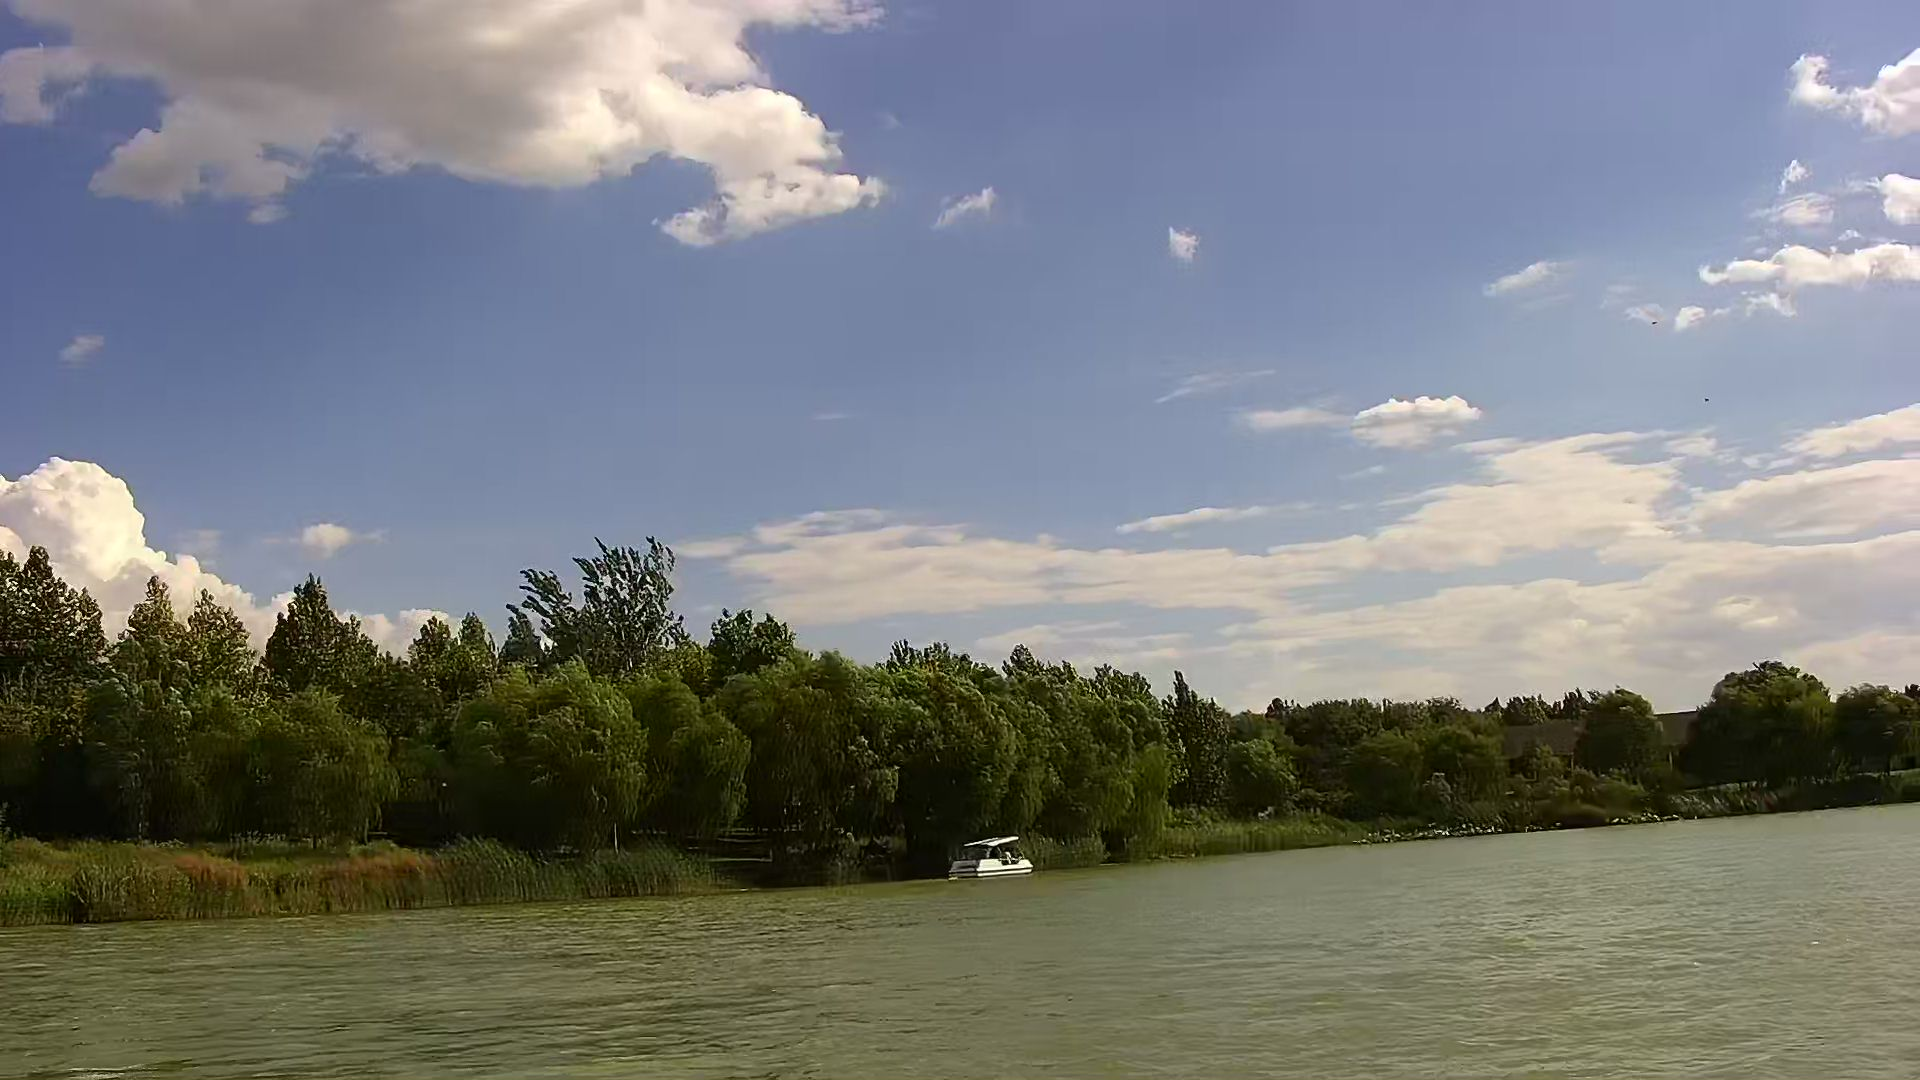boat: (948, 829, 1036, 880)
